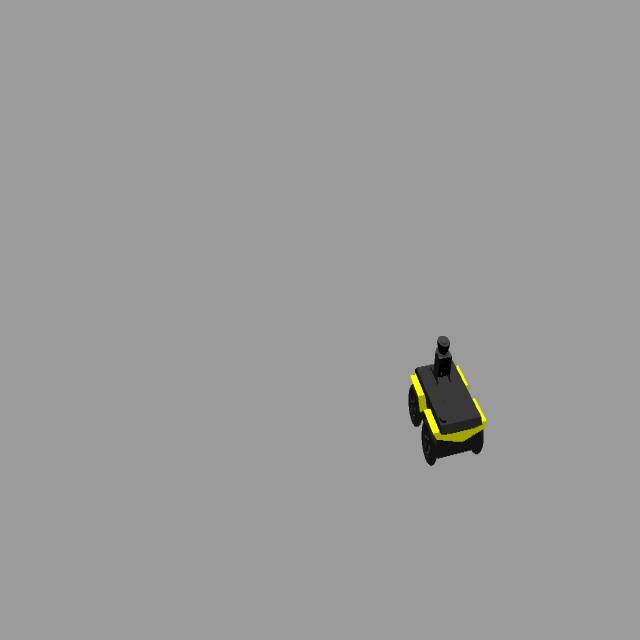jackal: (408, 336, 487, 468)
